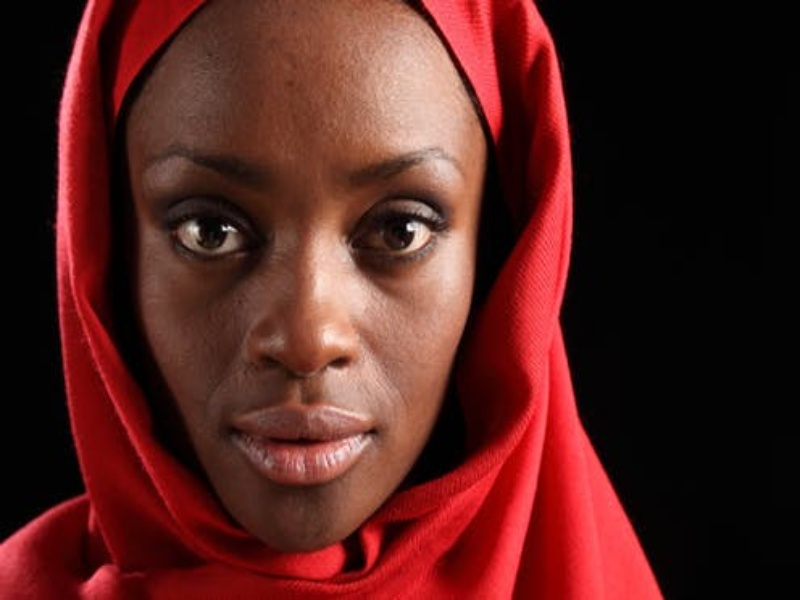face: (132, 105, 469, 505)
